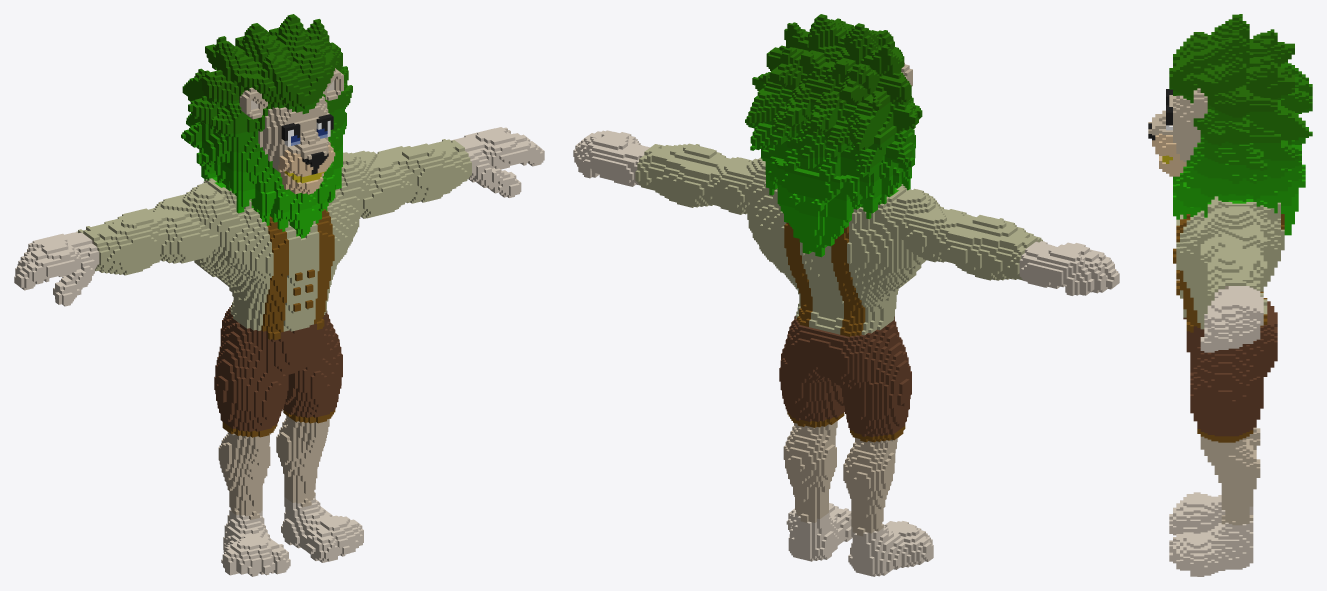
File: 490-YgwS9AQ-.glb
3 renders of one model, left to right at view 1: azimuth 30°, elevation 25°; view 2: azimuth 150°, elevation 25°; view 3: azimuth 270°, elevation 25°, orthographic. The views are drawn at different scales.
Parts seen in each view (by area): view 1: gold_smile; view 2: gold_smile; view 3: gold_smile.
Boxes of the visible parts, x1,y1,x2,y2 form: gold_smile: [14, 14, 544, 576]; gold_smile: [573, 14, 1119, 576]; gold_smile: [1148, 14, 1312, 576].
Bounding box in the file's own units: 17.2 × 16.5 × 4.7.
Materials: 5 (5 with a texture image).
